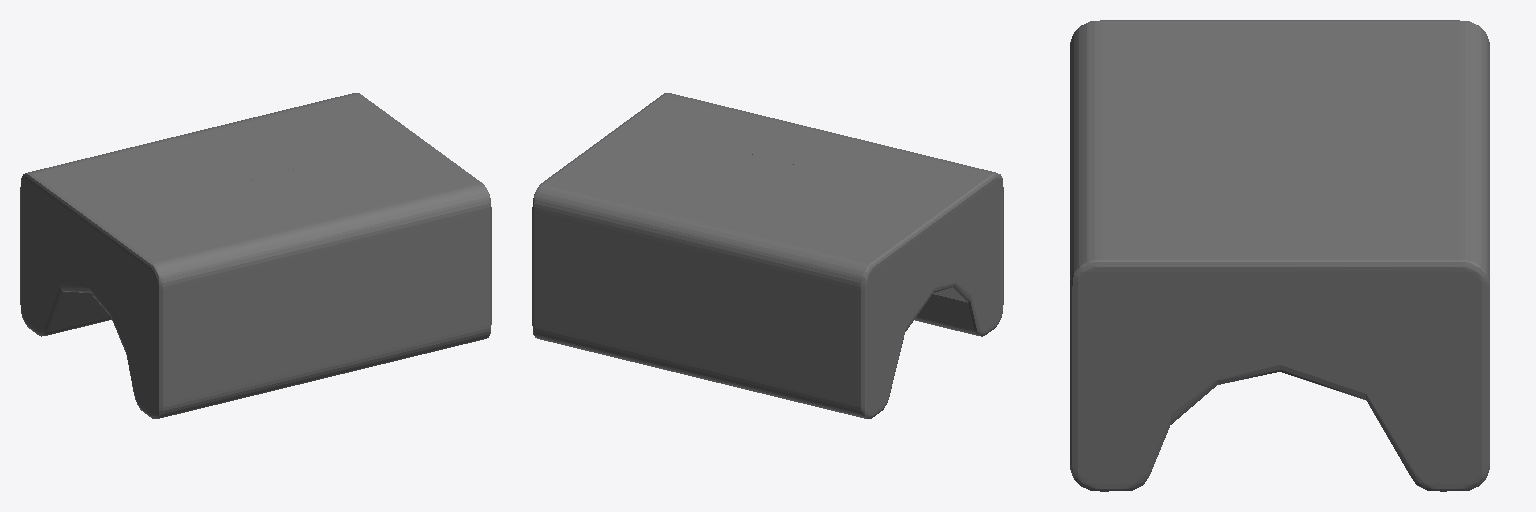
The robot description file, URDF, robot "square_table_leg4_fmb_arch_sdf_hybrid_matchedmass":
<?xml version="1.0" encoding="utf-8"?>
<robot name="square_table_leg4_fmb_arch_sdf_hybrid_matchedmass">
  <!-- FMB-shape body variant (arch): body cross-section from the FMB benchmark, same length, same thread.
       Generated by tools/peg_variants/make_leg4_fmb_variants.py. -->
  <link name="base_link">
    <inertial>
      <mass value="0.022750"/>
      <origin xyz="0.005744 0.000000 0.002392" rpy="0 0 0"/>
      <inertia ixx="4.811830e-06" ixy="-2.107284e-10" ixz="-3.525486e-07" iyy="1.156161e-05" iyz="1.746189e-11" izz="1.473215e-05"/>
    </inertial>
  </link>
  <material name="thread">
    <color rgba="0.95 0.55 0.10 1.0"/>
  </material>
  <material name="body">
    <color rgba="0.50 0.50 0.50 1.0"/>
  </material>
  <link name="thread_link">
    <visual>
      <origin xyz="0 0 0" rpy="0 0 0"/>
      <geometry><mesh filename="../../sdf_hybrid/square_table_leg4_thread.obj" scale="1 1 1"/></geometry>
      <material name="thread"/>
    </visual>
    <collision>
      <origin xyz="0 0 0" rpy="0 0 0"/>
      <geometry><mesh filename="../../sdf_hybrid/square_table_leg4_thread.obj" scale="1 1 1"/></geometry>
      <sdf resolution="256"/>
    </collision>
  </link>
  <joint name="base_to_thread" type="fixed">
    <parent link="base_link"/>
    <child link="thread_link"/>
    <origin xyz="0 0 0" rpy="0 0 0"/>
  </joint>
  <link name="body_link">
    <visual><origin xyz="0 0 0" rpy="0 0 0"/><geometry><mesh filename="body_coacd/decomp_0.obj" scale="1 1 1"/></geometry><material name="body"/></visual>
    <collision><origin xyz="0 0 0" rpy="0 0 0"/><geometry><mesh filename="body_coacd/decomp_0.obj" scale="1 1 1"/></geometry></collision>
    <visual><origin xyz="0 0 0" rpy="0 0 0"/><geometry><mesh filename="body_coacd/decomp_1.obj" scale="1 1 1"/></geometry><material name="body"/></visual>
    <collision><origin xyz="0 0 0" rpy="0 0 0"/><geometry><mesh filename="body_coacd/decomp_1.obj" scale="1 1 1"/></geometry></collision>
    <visual><origin xyz="0 0 0" rpy="0 0 0"/><geometry><mesh filename="body_coacd/decomp_2.obj" scale="1 1 1"/></geometry><material name="body"/></visual>
    <collision><origin xyz="0 0 0" rpy="0 0 0"/><geometry><mesh filename="body_coacd/decomp_2.obj" scale="1 1 1"/></geometry></collision>
    <visual><origin xyz="0 0 0" rpy="0 0 0"/><geometry><mesh filename="body_coacd/decomp_3.obj" scale="1 1 1"/></geometry><material name="body"/></visual>
    <collision><origin xyz="0 0 0" rpy="0 0 0"/><geometry><mesh filename="body_coacd/decomp_3.obj" scale="1 1 1"/></geometry></collision>
    <visual><origin xyz="0 0 0" rpy="0 0 0"/><geometry><mesh filename="body_coacd/decomp_4.obj" scale="1 1 1"/></geometry><material name="body"/></visual>
    <collision><origin xyz="0 0 0" rpy="0 0 0"/><geometry><mesh filename="body_coacd/decomp_4.obj" scale="1 1 1"/></geometry></collision>
  </link>
  <joint name="base_to_body" type="fixed">
    <parent link="base_link"/>
    <child link="body_link"/>
    <origin xyz="0 0 0" rpy="0 0 0"/>
  </joint>
</robot>

--- Render facts (derived) ---
3 views of the same robot in one strip: view 1: azimuth 30°, elevation 25°; view 2: azimuth 150°, elevation 25°; view 3: azimuth 270°, elevation 25° (orthographic).
Model square_table_leg4_fmb_arch_sdf_hybrid_matchedmass with 3 links and 2 joints (2 fixed), rooted at base_link, posed all joints at 0.
Visible links, largest first — view 1: body_link; view 2: body_link; view 3: body_link.
Boxes of the visible links, x1=… form: body_link: x1=20, y1=93, x2=491, y2=418; body_link: x1=532, y1=93, x2=1003, y2=418; body_link: x1=1070, y1=20, x2=1489, y2=491.
Size in the robot's own frame: 0.0632 by 0.0462 by 0.028 metres.
5 mesh visuals loaded from 6 distinct referenced files (5 OBJ); not drawn: 1 (reference not matched to a file when rendering).
